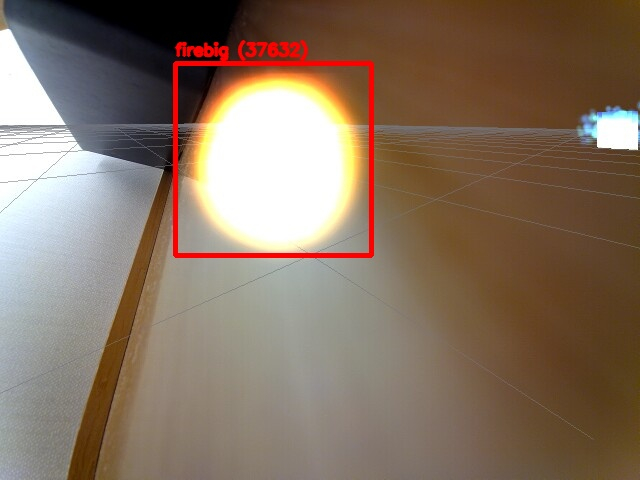firebig: (175, 63, 371, 255)
